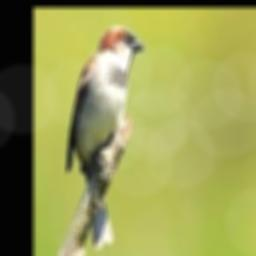Sparrow: (65, 26, 144, 248)
